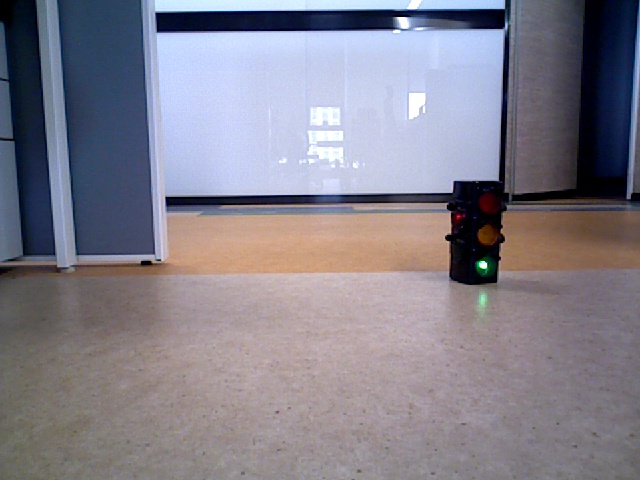green: (453, 182, 498, 280)
